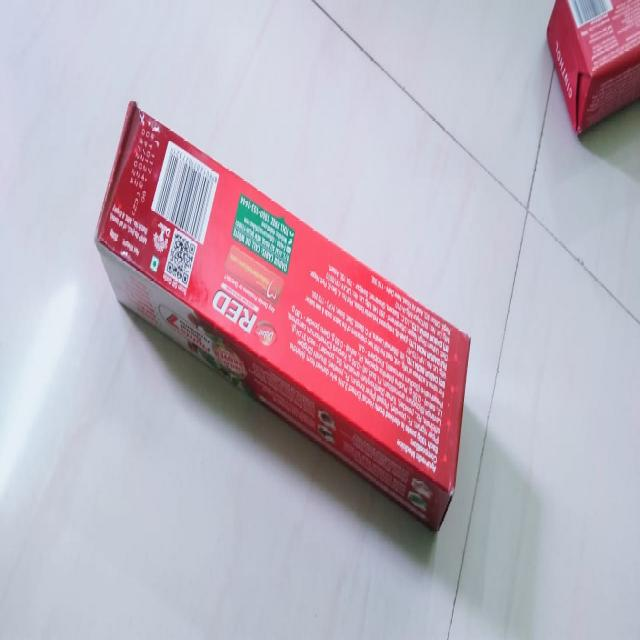tooth paste: (91, 97, 471, 522)
